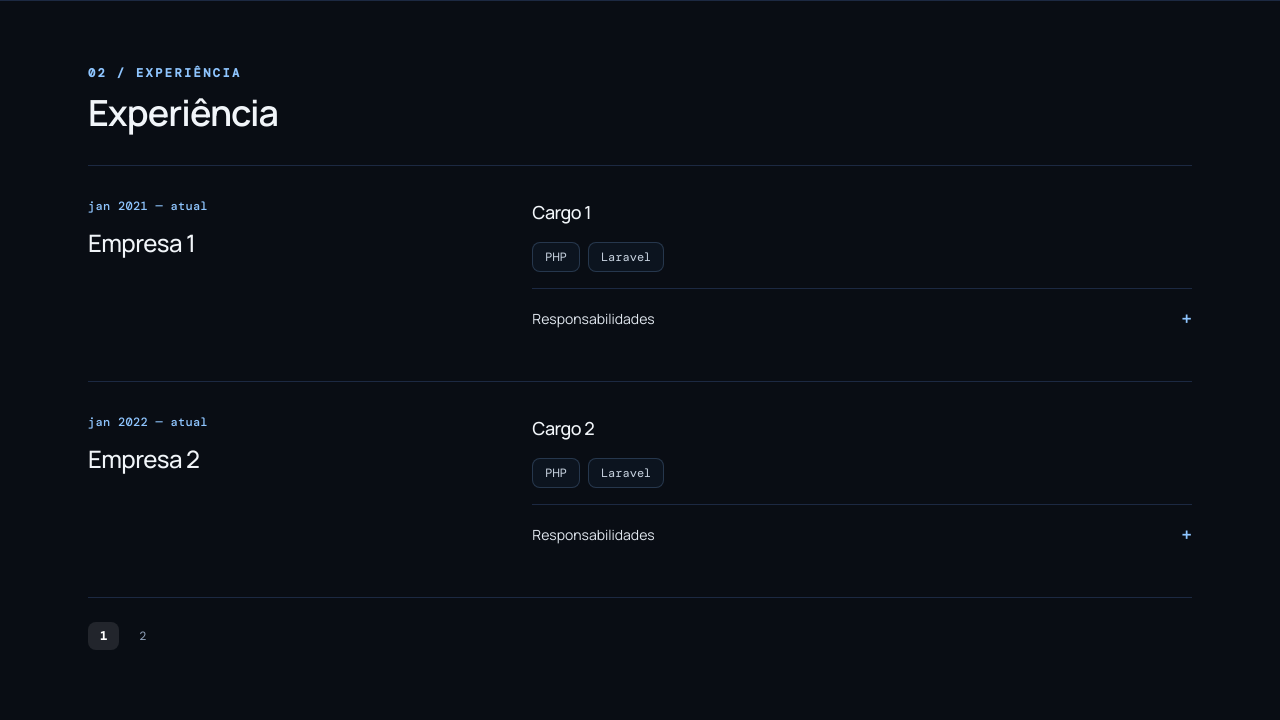
Test case: ExperienciaTimeline › paginates with numbered buttons
Check: the heading "Empresa 2" is shown, box top-left (88, 442), bottom-right (199, 475)
Check: the text "Empresa 3" is not shown
Click the button named "Página 2" at (143, 636), box top-left (127, 622), bottom-right (158, 650)
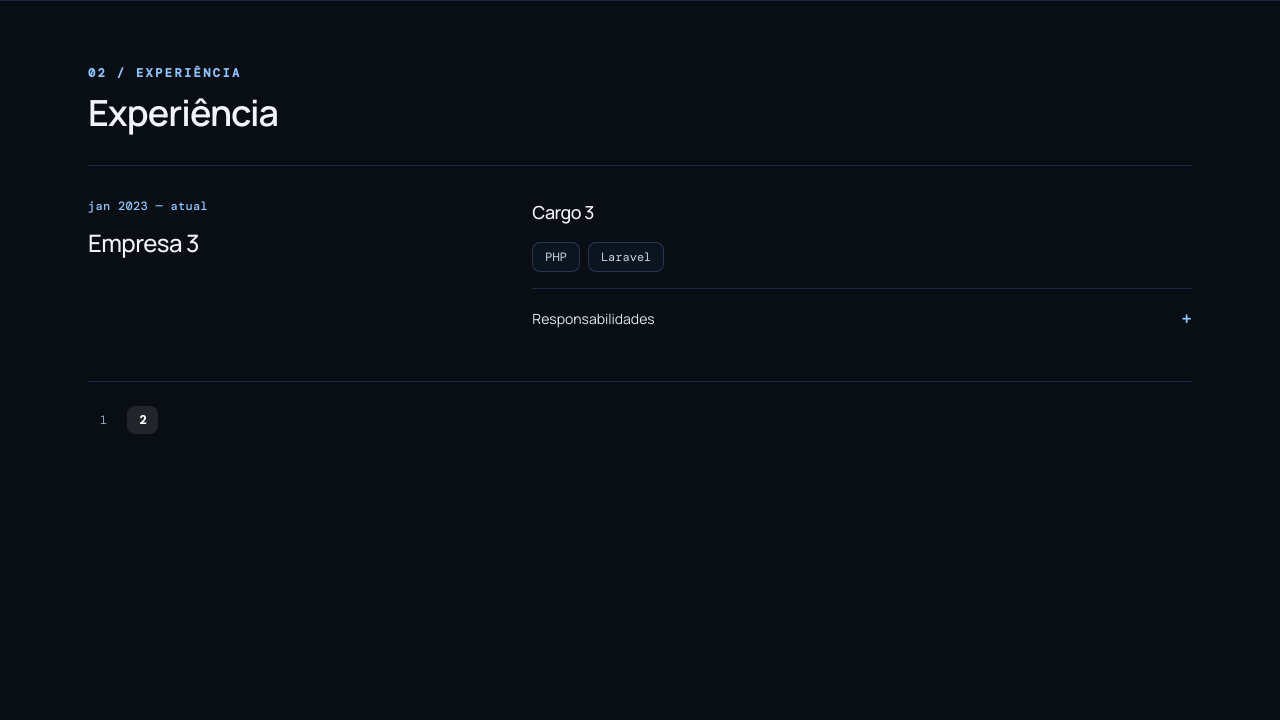
Check: the heading "Empresa 3" is shown, box top-left (88, 226), bottom-right (199, 259)
Check: the heading "Empresa 1" is gone
